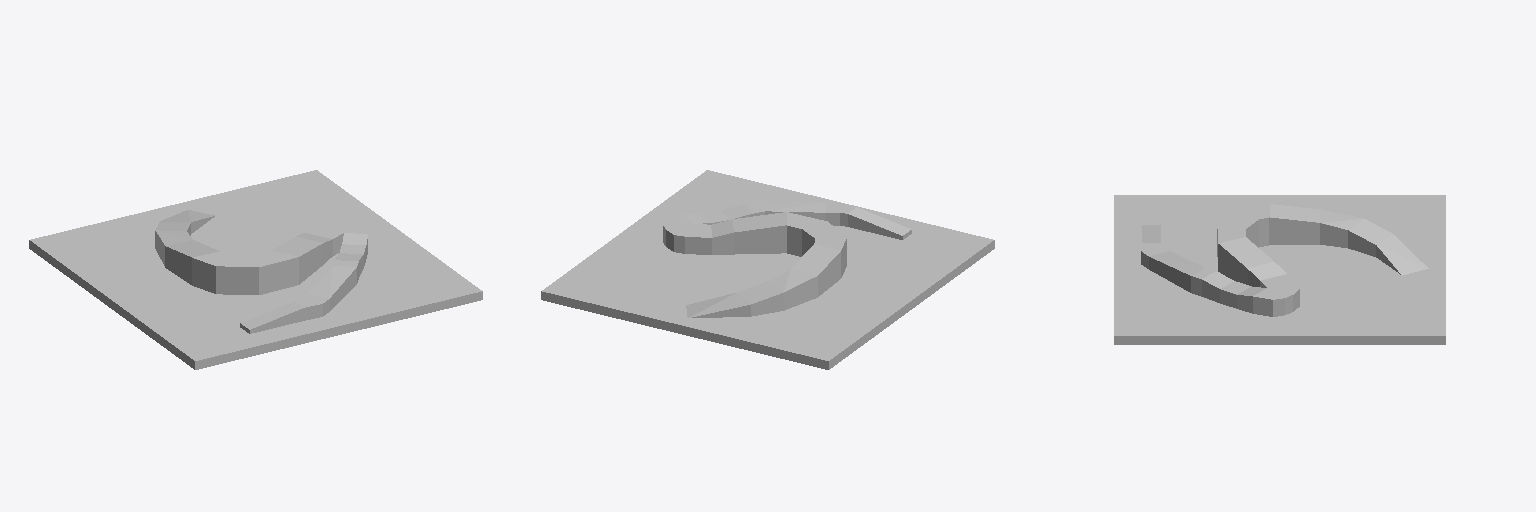
The model's file is zemin2.obj.
3 views of the same model, side by side, from view 1: azimuth 30°, elevation 25°; view 2: azimuth 150°, elevation 25°; view 3: azimuth 270°, elevation 25° (orthographic).
Parts seen in each view (by area): view 1: Plane; view 2: Plane; view 3: Plane.
Part boxes in pixels (left/top/right/bottom): Plane: left=29, top=170, right=482, bottom=369; Plane: left=541, top=170, right=994, bottom=369; Plane: left=1114, top=195, right=1445, bottom=344.
Size of the model in its own units: 35.88 by 4.42 by 35.88.